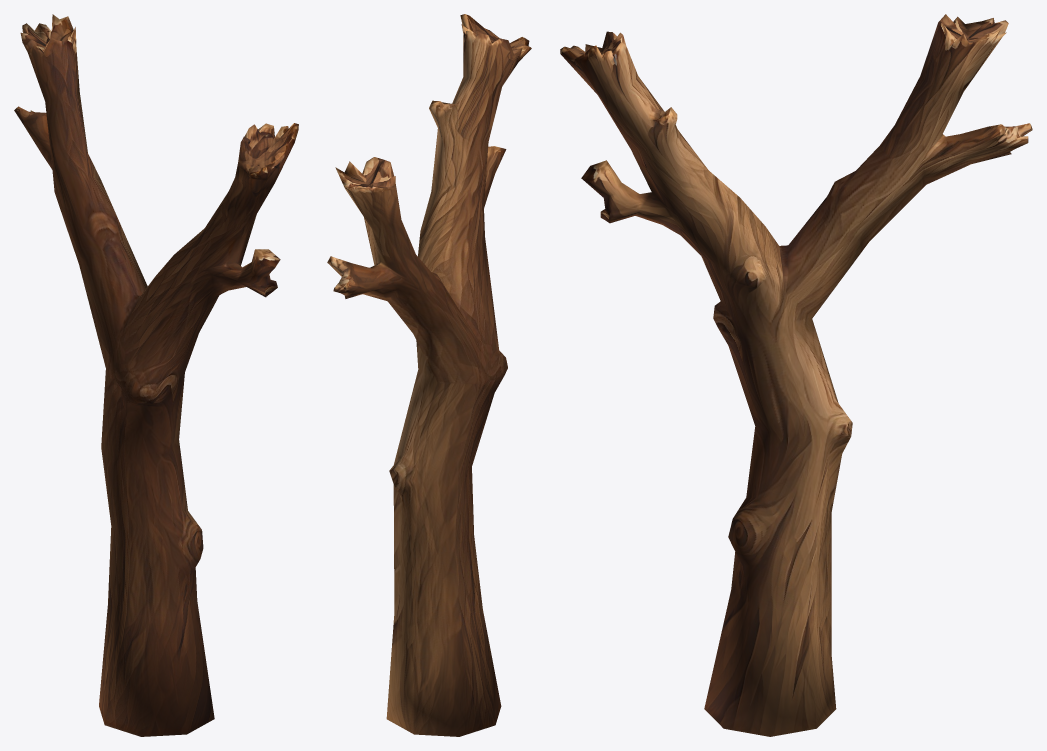
The model's file is wooden-trunk-v1.glb.
The picture shows the model from 3 angles, left to right: view 1: azimuth 30°, elevation 25°; view 2: azimuth 150°, elevation 25°; view 3: azimuth 270°, elevation 25°; orthographic projection. The views are drawn at different scales.
Visible parts, largest first — view 1: tripo_node_f1663284-3ba2-41b0-bdb1-72679c74779e; view 2: tripo_node_f1663284-3ba2-41b0-bdb1-72679c74779e; view 3: tripo_node_f1663284-3ba2-41b0-bdb1-72679c74779e.
Part boxes in pixels (box(x1,y1,x2,y2)): tripo_node_f1663284-3ba2-41b0-bdb1-72679c74779e: box(14, 14, 298, 736); tripo_node_f1663284-3ba2-41b0-bdb1-72679c74779e: box(327, 14, 531, 736); tripo_node_f1663284-3ba2-41b0-bdb1-72679c74779e: box(560, 14, 1032, 736).
Size of the model in its own units: 0.1895 by 0.998 by 0.6152.
Materials: 1 (1 with a texture image).
